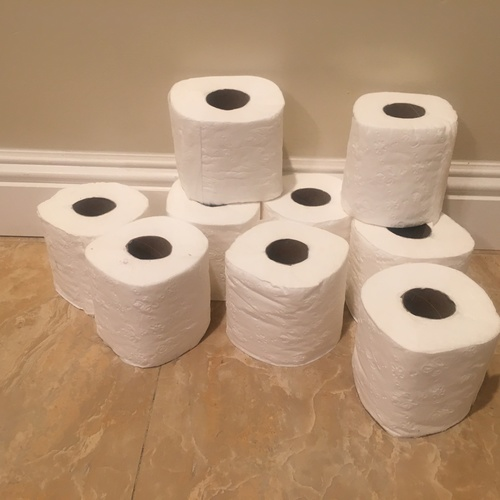roll: (351, 263, 500, 439), (85, 216, 212, 365), (223, 220, 351, 367), (340, 90, 456, 224), (166, 76, 285, 206), (38, 181, 150, 315), (344, 212, 475, 321), (165, 176, 260, 300), (263, 174, 352, 247)
